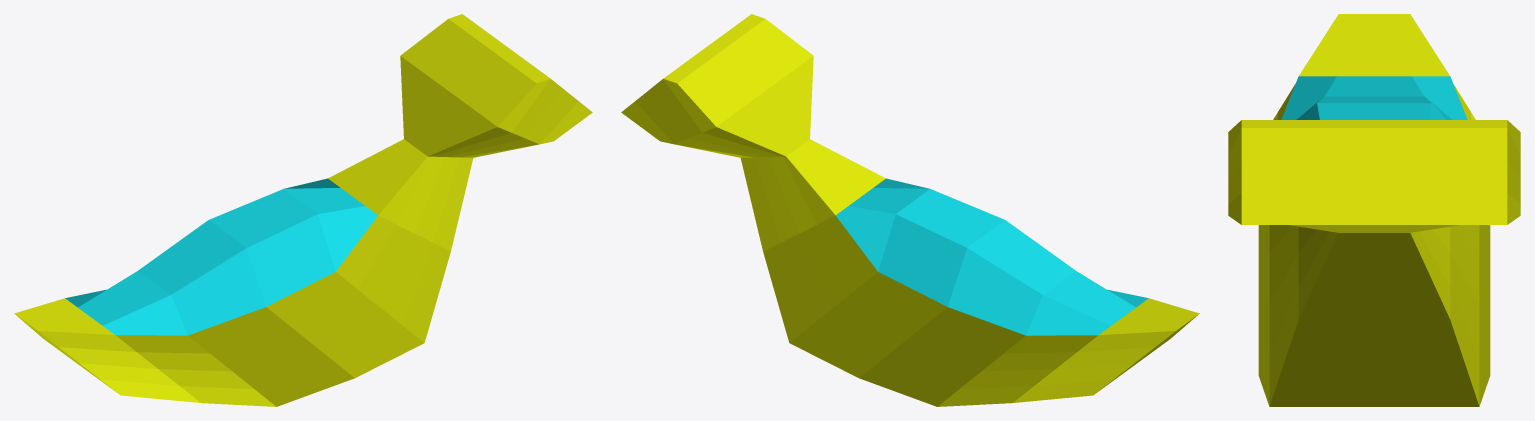
The model's file is VoitureBanane.fbx.
3 views of the same model, side by side, from view 1: azimuth 30°, elevation 25°; view 2: azimuth 150°, elevation 25°; view 3: azimuth 270°, elevation 25° (orthographic). The views are drawn at different scales.
Parts seen in each view (by area): view 1: Cube; view 2: Cube; view 3: Cube.
Boxes of the visible parts, bbox=[...] form: Cube: bbox=[14, 14, 592, 406]; Cube: bbox=[621, 14, 1199, 406]; Cube: bbox=[1228, 14, 1520, 406].
Bounding box in the file's own units: 1131 × 562 × 365.
